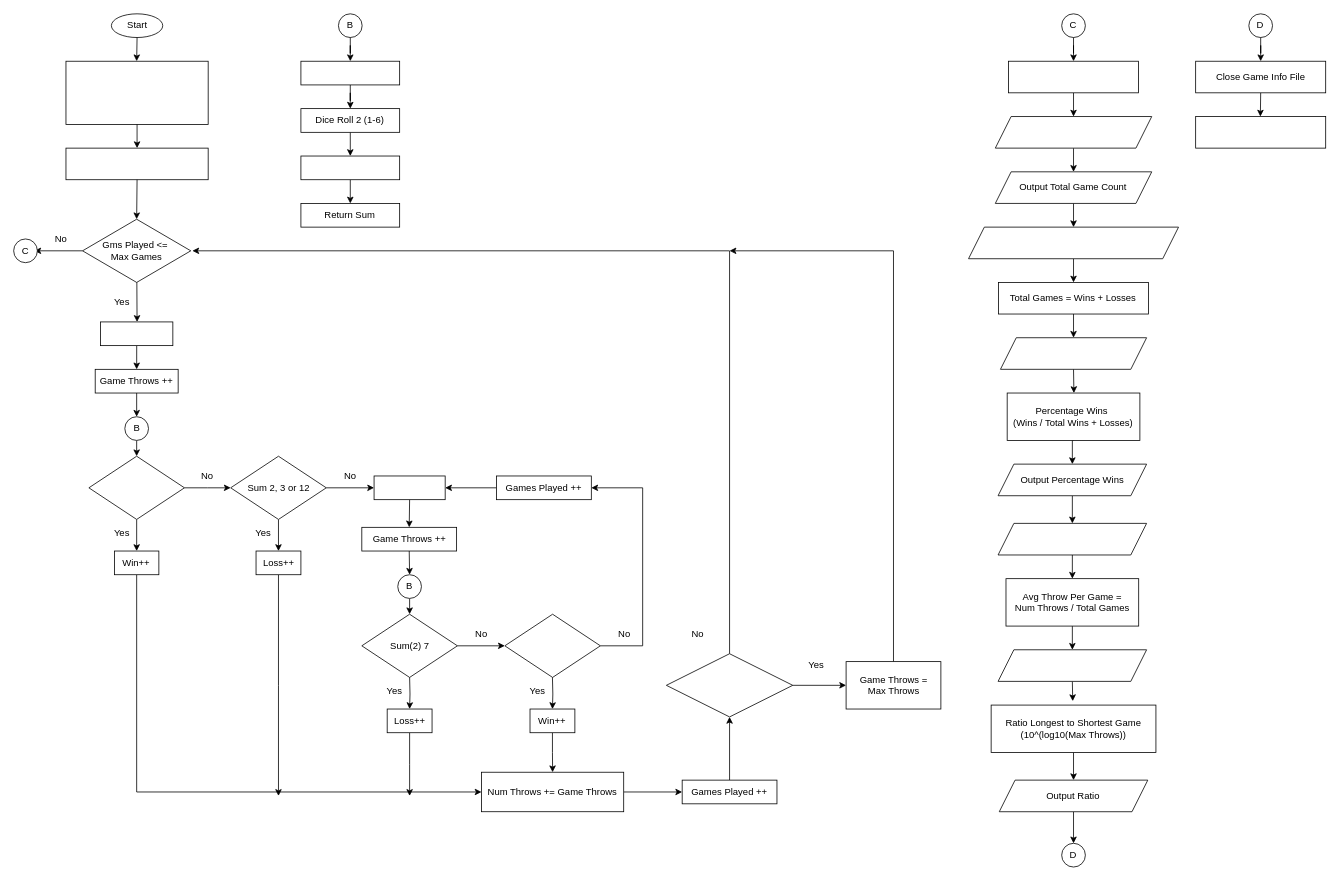
This 1340x881 diagram has some shape labels left out. The shapes that lost their labels are listed below. From the top down, each one's centre as x and y in pixels, then its label:
point 136,92: Initialize Variables Random Num for Bet Set Max Games Open Game Info/Stats Files
point 350,72: Dice Roll 1 (1-6)
point 1073,76: Store Time of Game End
point 1073,132: Output End Time - Beg Time
point 1260,132: Close Game Stats File
point 136,163: Game Start Store Time of Game Start
point 350,167: Sum Dice Roll 1 + 2
point 1073,242: Output Rows (Game #, Sum Roll, Wins and Losses)
point 136,333: Throw Dice
point 1073,353: Output Total Games
point 136,487: Sum(1) 7 or 11
point 409,487: Rethrow Dice
point 1072,539: Output Max Throws
point 552,645: Sum(2) = Sum(1)
point 1072,665: Output Avg Throws
point 729,685: Game Throws > Max Throws
